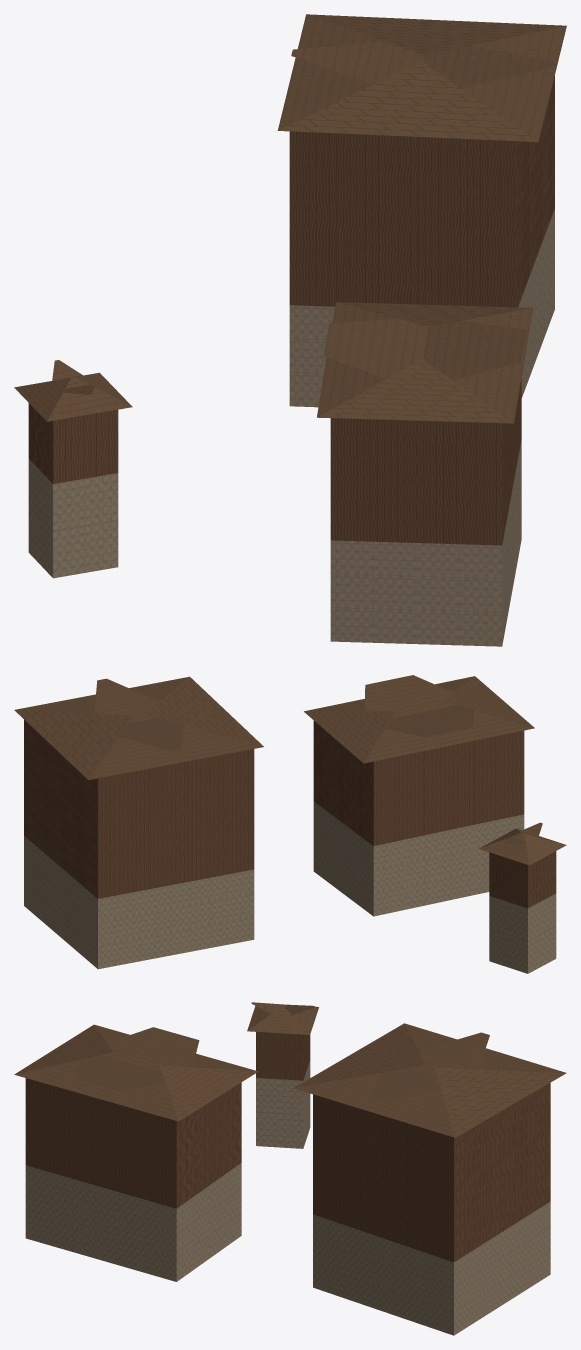
Rendered from bld_c13_36_412.gltf.
3 views of the same model, one above another, from view 1: azimuth 30°, elevation 25°; view 2: azimuth 150°, elevation 25°; view 3: azimuth 270°, elevation 25° (orthographic). The views are drawn at different scales.
Parts seen in each view (by area): view 1: bld_c13_36_412; view 2: bld_c13_36_412; view 3: bld_c13_36_412.
Part boxes in pixels (<box>): bld_c13_36_412: <box>14,14,566,646</box>; bld_c13_36_412: <box>14,675,566,973</box>; bld_c13_36_412: <box>14,1002,566,1335</box>.
Size of the model in its own units: 34.71 by 16.9 by 34.91.
Materials: 3 (3 with a texture image).
